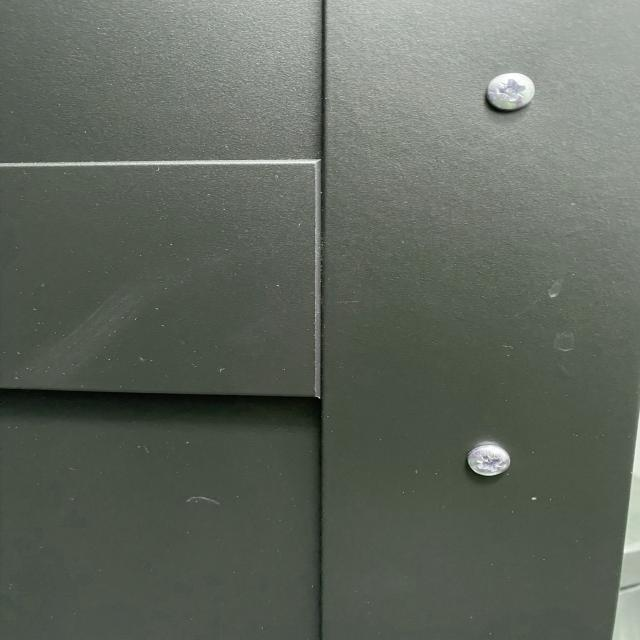PhillipsScrewHead: (486, 72, 536, 112), (467, 444, 511, 478)
